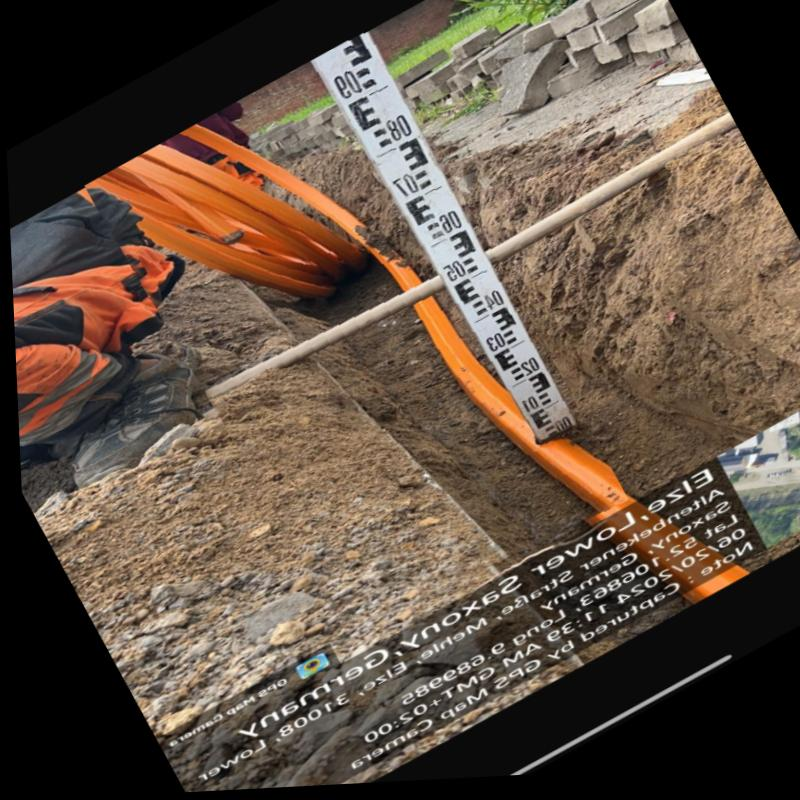Orang-Speednetrohrchen: (84, 127, 622, 519)
